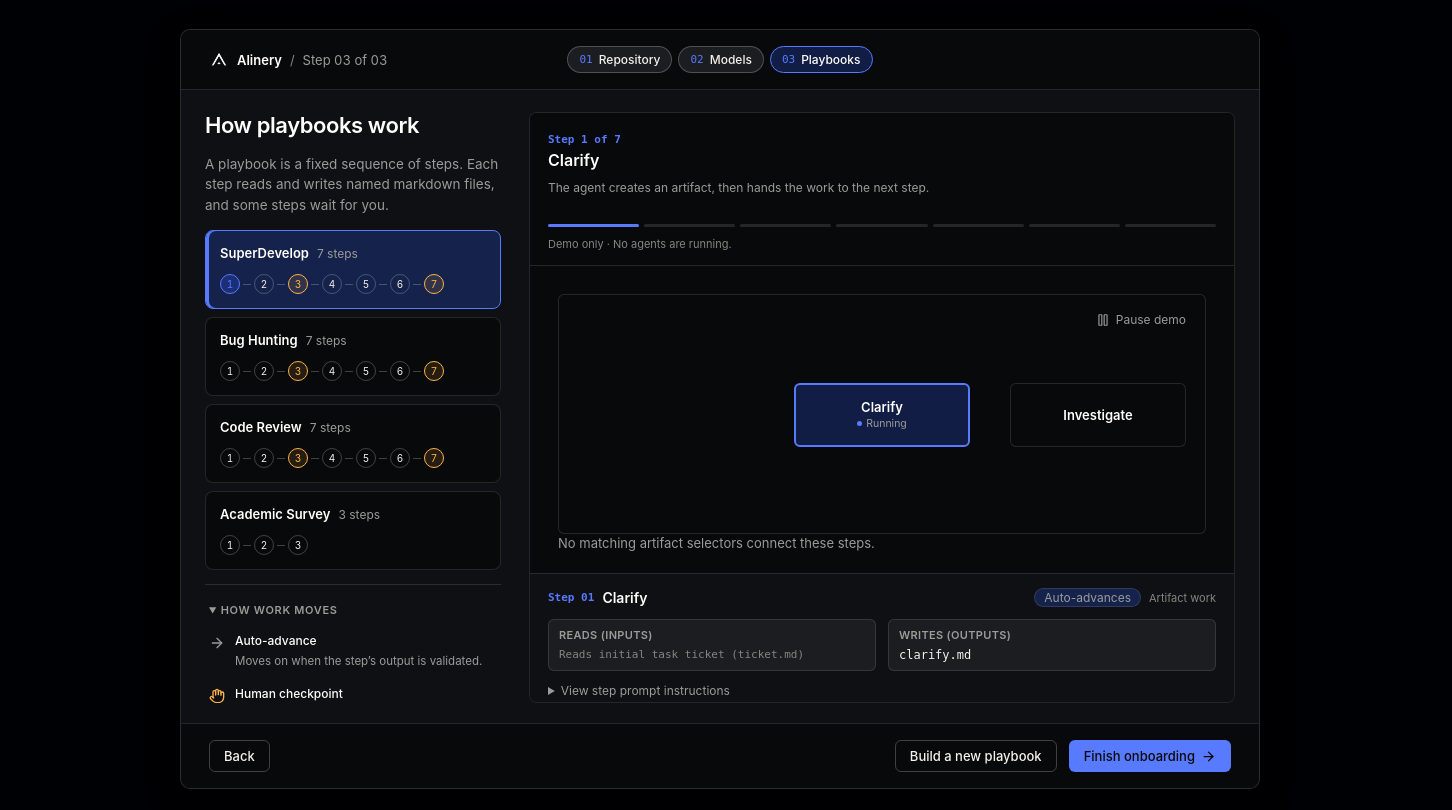
OnboardingFlow wizard › starts a fresh step duration when switching playbooks during a paused partial step
The image size is (1452, 810).
Step 1. Click the button "Pause demo" → (1141, 320), box x1=1088 y1=306 x2=1194 y2=334
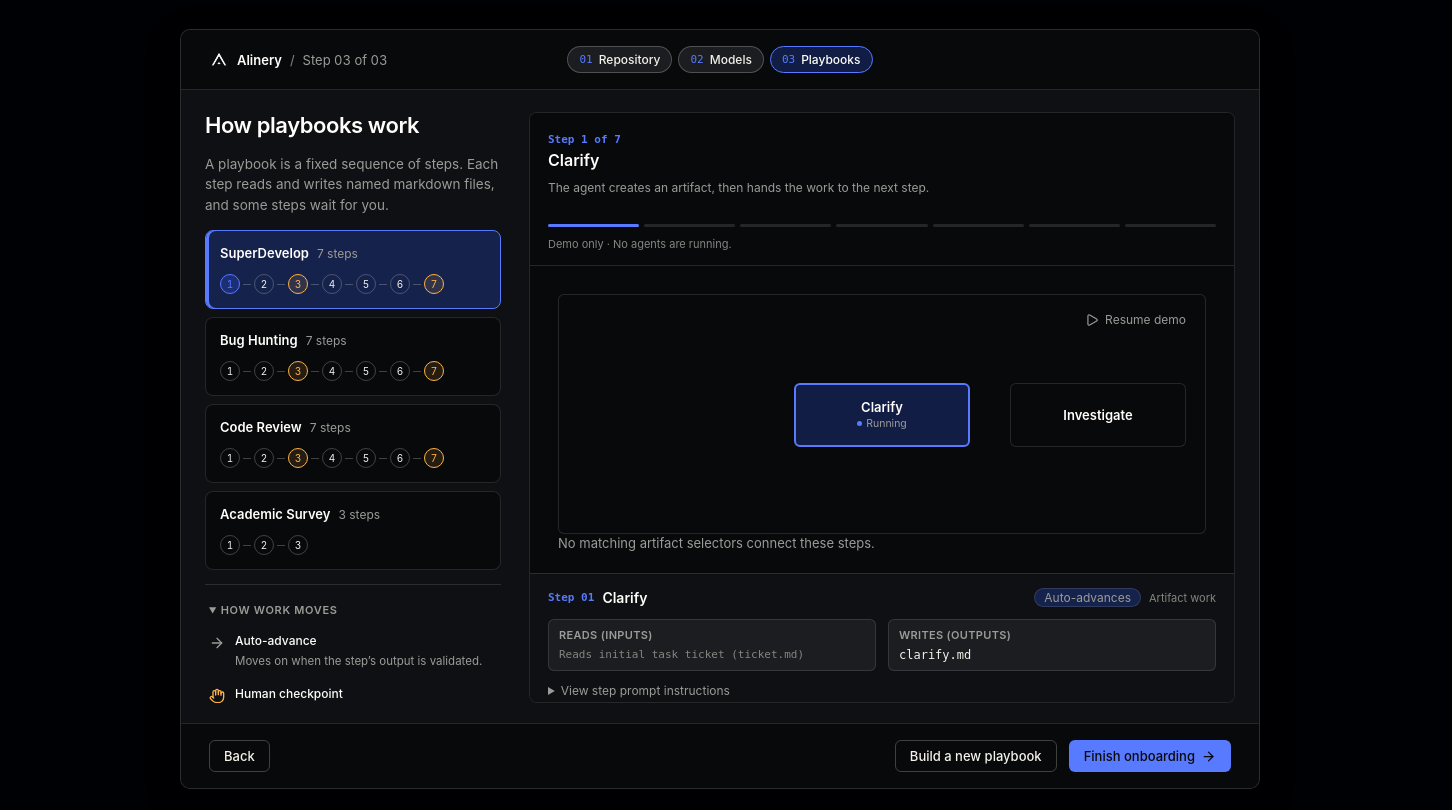
Step 2. Click the radio button labelled "Academic Survey 3 steps 1 2 3" → (275, 514), box x1=205 y1=491 x2=501 y2=570
Wait 2600 ms
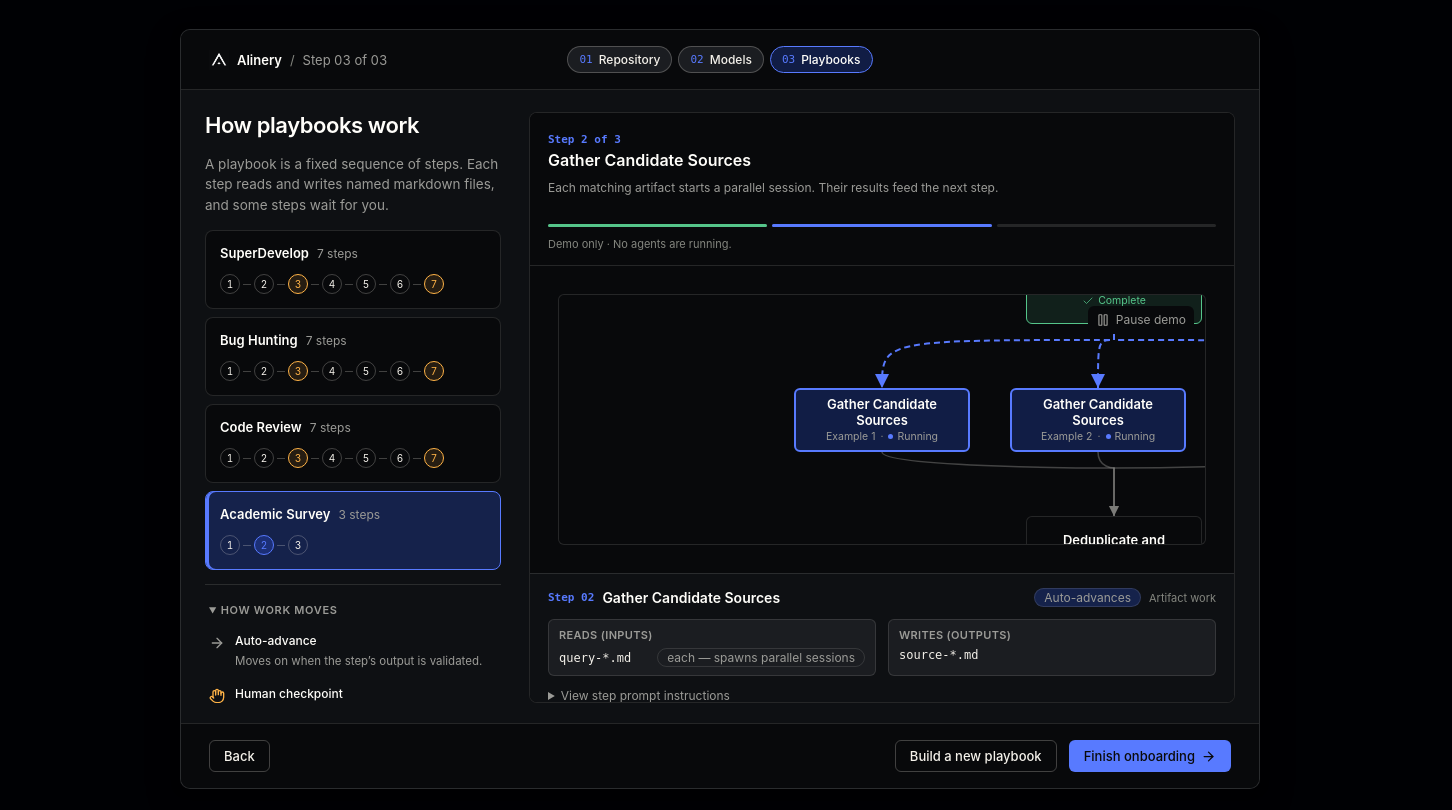
Result: the text "Step 2 of 3" is shown at x1=548 y1=133 x2=621 y2=146
